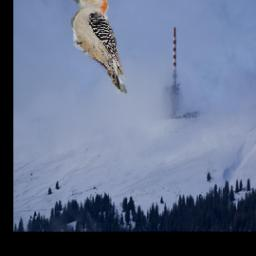Woodpecker: (63, 0, 128, 94)
